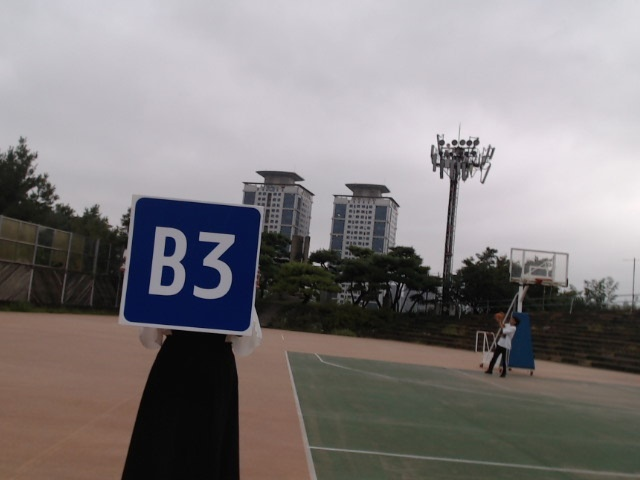delivery_b3: (122, 195, 260, 331)
